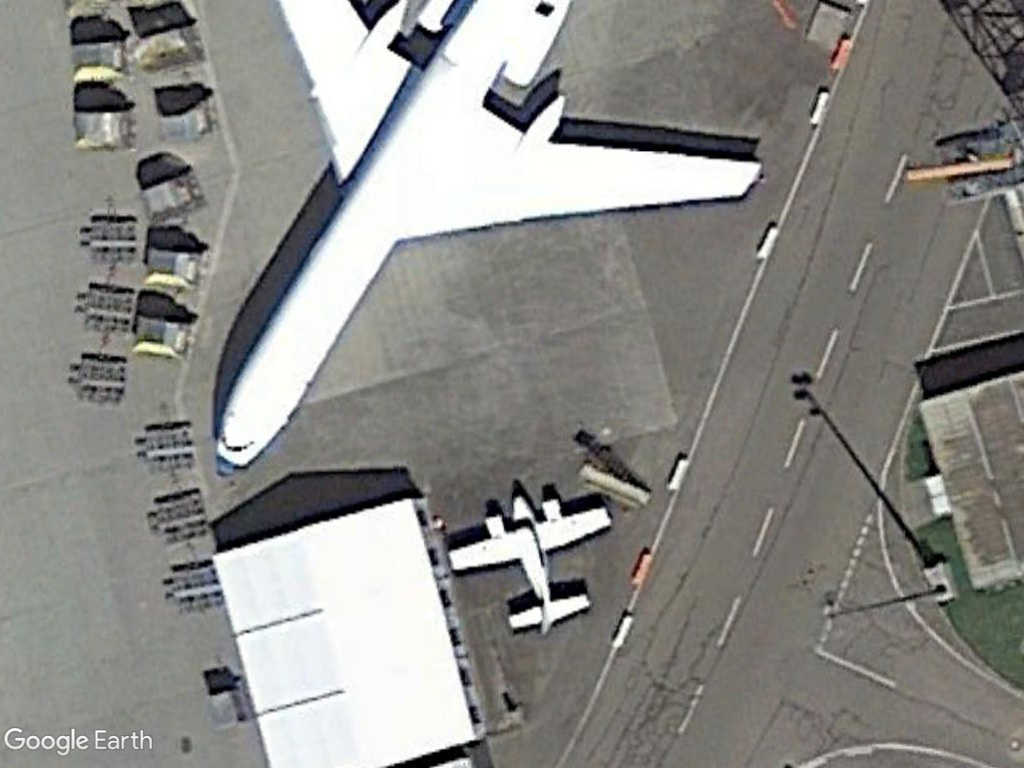trainer: (440, 483, 619, 646)
